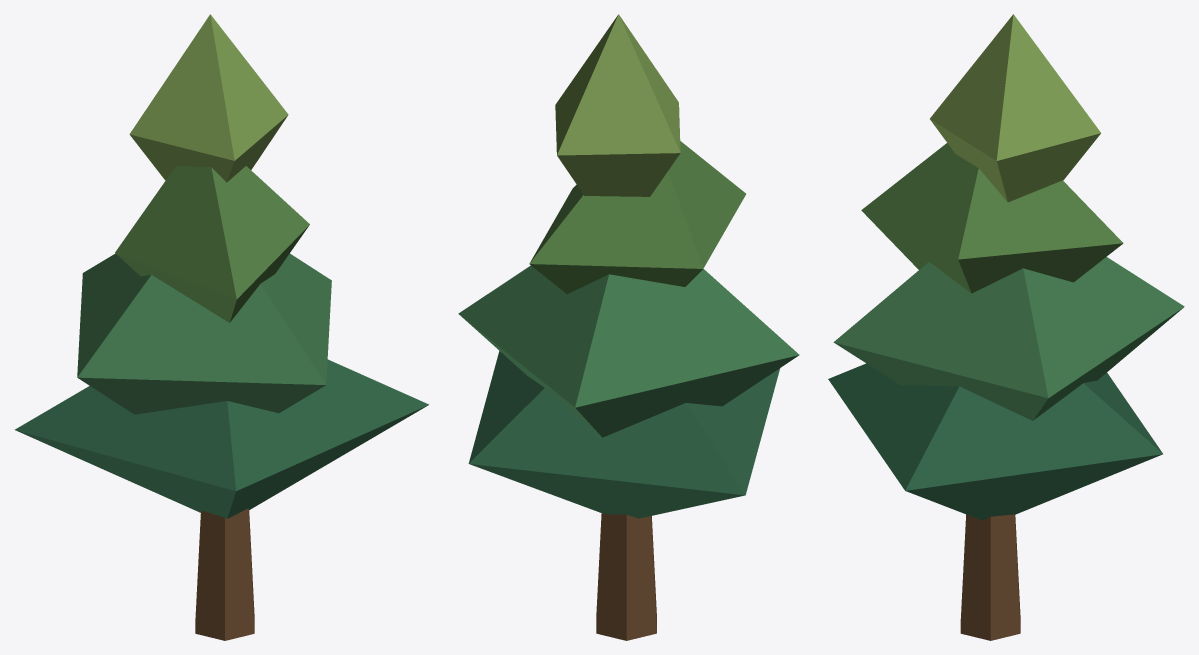
Rendered from tree-pine-canopy-0.gltf.
3 renders of one model, left to right at view 1: azimuth 30°, elevation 25°; view 2: azimuth 150°, elevation 25°; view 3: azimuth 270°, elevation 25°, orthographic. The views are drawn at different scales.
Parts seen in each view (by area): view 1: tree-pine-canopy-0; view 2: tree-pine-canopy-0; view 3: tree-pine-canopy-0.
Boxes of the visible parts, left/top/right/bottom form: tree-pine-canopy-0: left=15, top=14, right=428, bottom=640; tree-pine-canopy-0: left=458, top=14, right=799, bottom=640; tree-pine-canopy-0: left=828, top=14, right=1184, bottom=640.
Bounding box in the file's own units: 1.06 × 1.88 × 0.9971.
